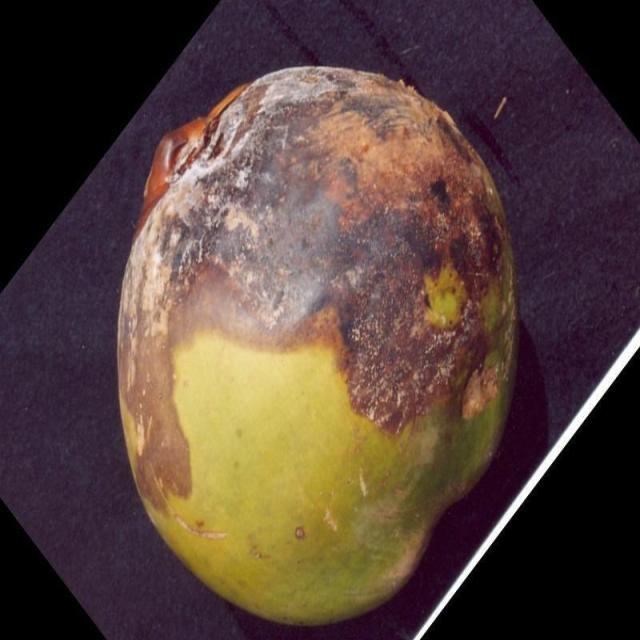damaged: (115, 66, 524, 630)
